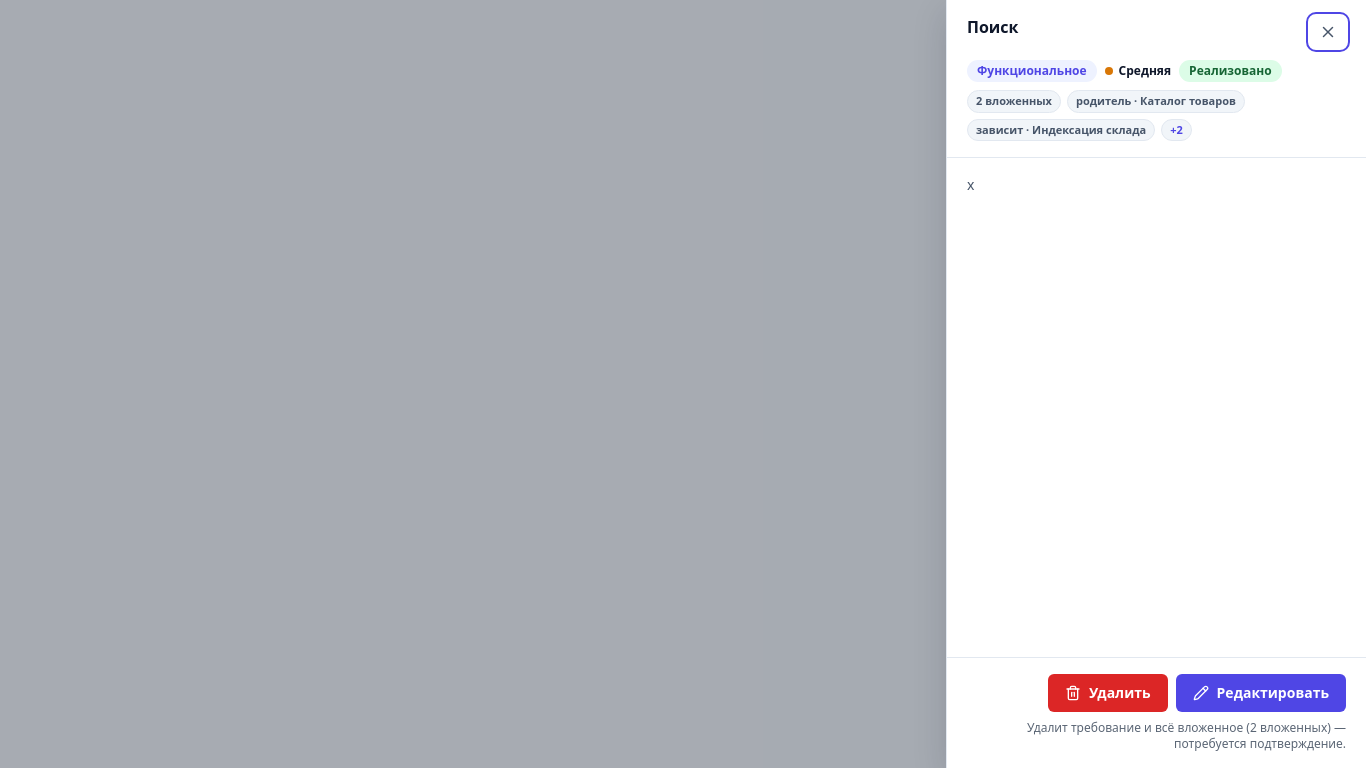
DescPanel (T-1104, FR-7.4 / T6 desc-panel mockup §2.7) › renders link chips with Russian type + target name and a «+N» expander
expect the number of elements with test id "desc-panel-link-chip" is 3: met, box x1=967 y1=90 x2=1061 y2=112; x1=1067 y1=90 x2=1245 y2=112; x1=967 y1=118 x2=1155 y2=141
expect the text "2 вложенных" is shown: met, box x1=976 y1=93 x2=1052 y2=110
Click the button with test id "desc-panel-links-more" at (1176, 130), box x1=1161 y1=118 x2=1192 y2=141
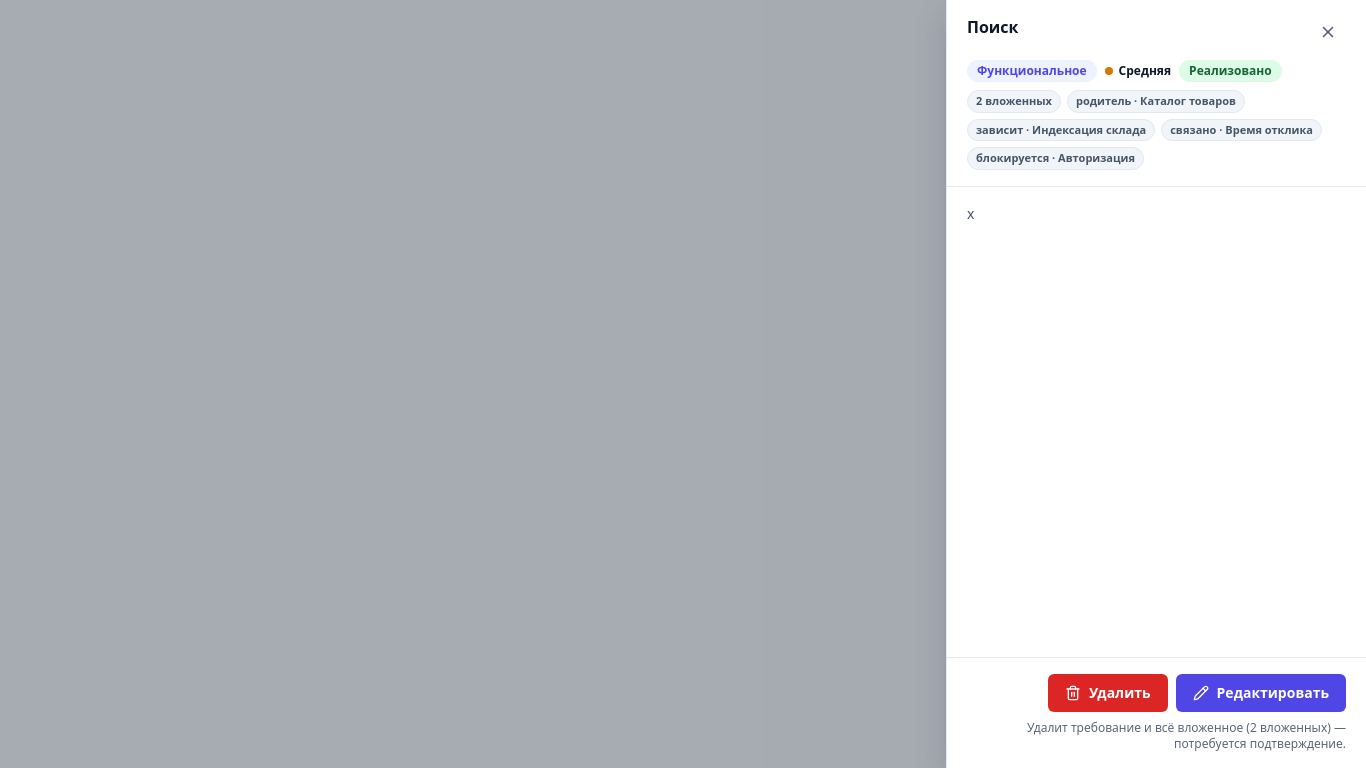
expect the number of elements with test id "desc-panel-link-chip" is 5: met, box x1=967 y1=90 x2=1061 y2=112; x1=1067 y1=90 x2=1245 y2=112; x1=967 y1=118 x2=1155 y2=141; x1=1161 y1=118 x2=1322 y2=141; x1=967 y1=147 x2=1144 y2=170
expect the text "связано · Время отклика" is shown: met, box x1=1170 y1=122 x2=1313 y2=138
expect the text "блокируется · Авторизация" is shown: met, box x1=976 y1=150 x2=1135 y2=166
